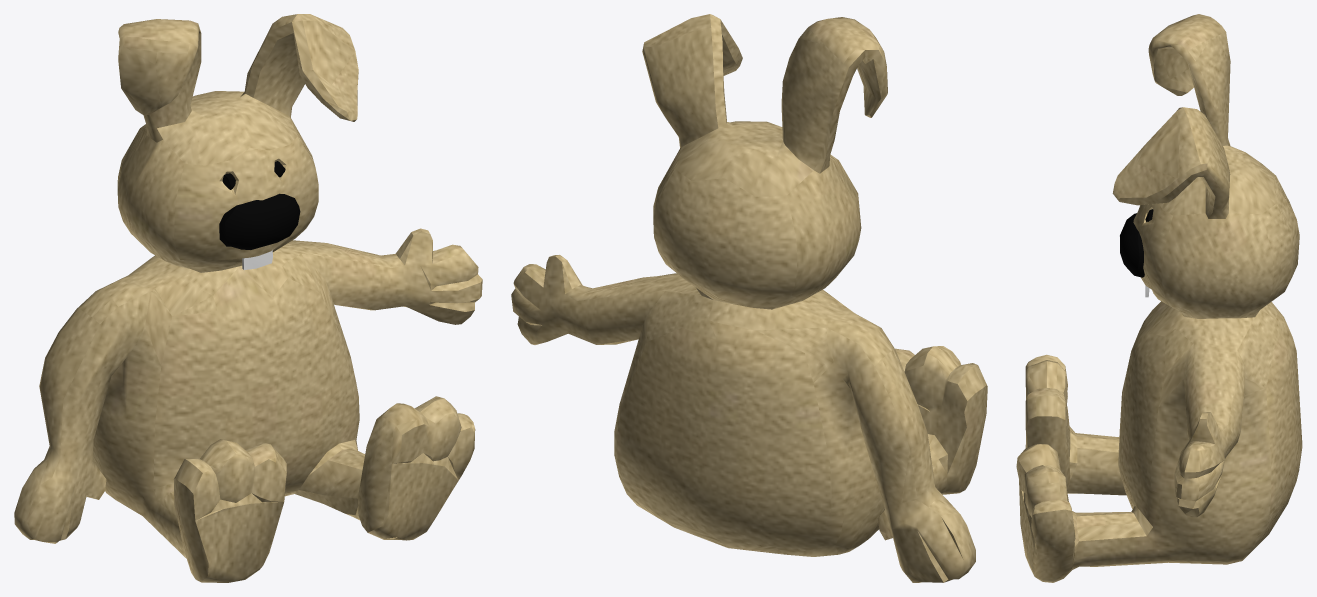
Rendered from Teddy 2.FBX.
The picture shows the model from 3 angles, left to right: view 1: azimuth 30°, elevation 25°; view 2: azimuth 150°, elevation 25°; view 3: azimuth 270°, elevation 25°; orthographic projection. The views are drawn at different scales.
Visible parts, largest first — view 1: Teddy 2; view 2: Teddy 2; view 3: Teddy 2.
Boxes of the visible parts, x1,y1,x2,y2 form: Teddy 2: (14, 14, 482, 582); Teddy 2: (511, 14, 987, 582); Teddy 2: (1016, 14, 1302, 582).
Bounding box in the file's own units: 12.37 × 13.2 × 7.18.
